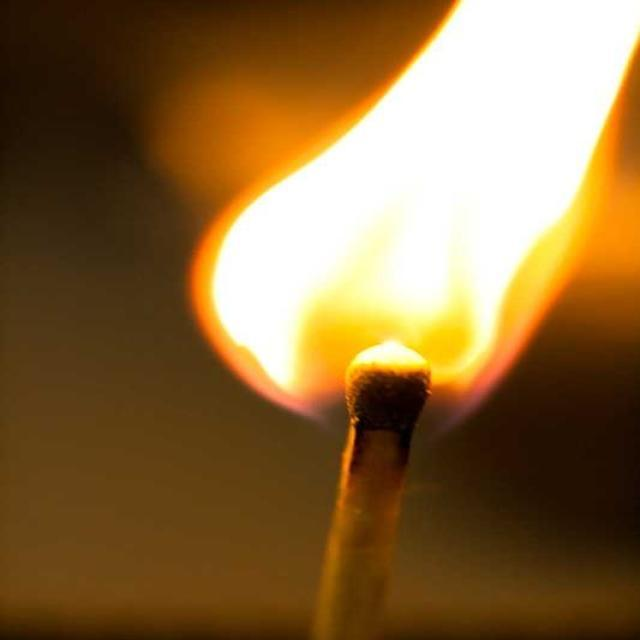Fire: (254, 173, 526, 344), (444, 5, 584, 165)
